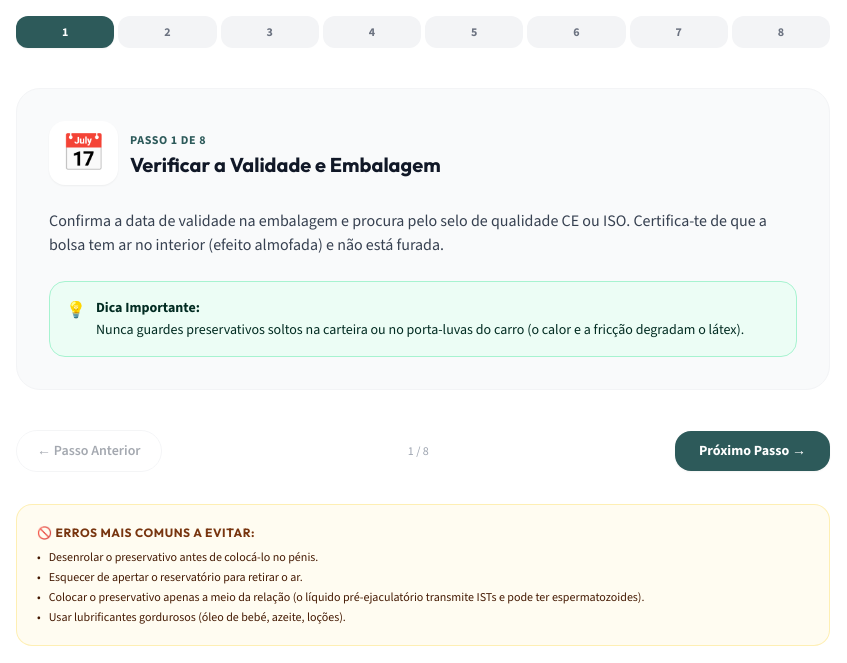
Test case: StepByStepGuides › navigates to next step using Próximo Passo button
(page scrolled)
What coordinates should you click on to do the following:
click the button "Próximo Passo →"
I would click on:
 (752, 451)
Its box is [675, 431, 830, 471].
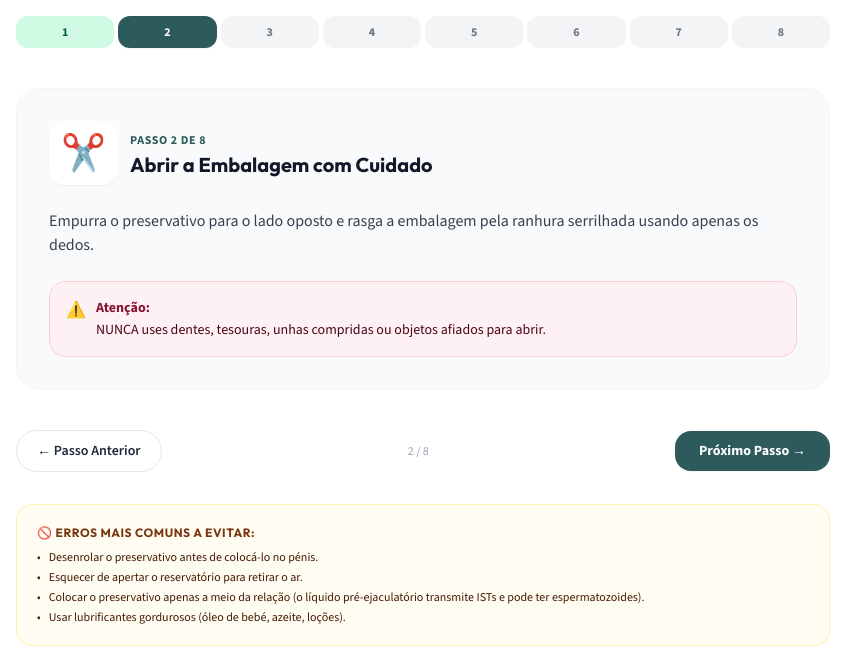
Check: the heading "Abrir a Embalagem com Cuidado" is shown, box [130, 151, 432, 179]
Check: the text "2 / 8" is shown, box [408, 443, 429, 459]
